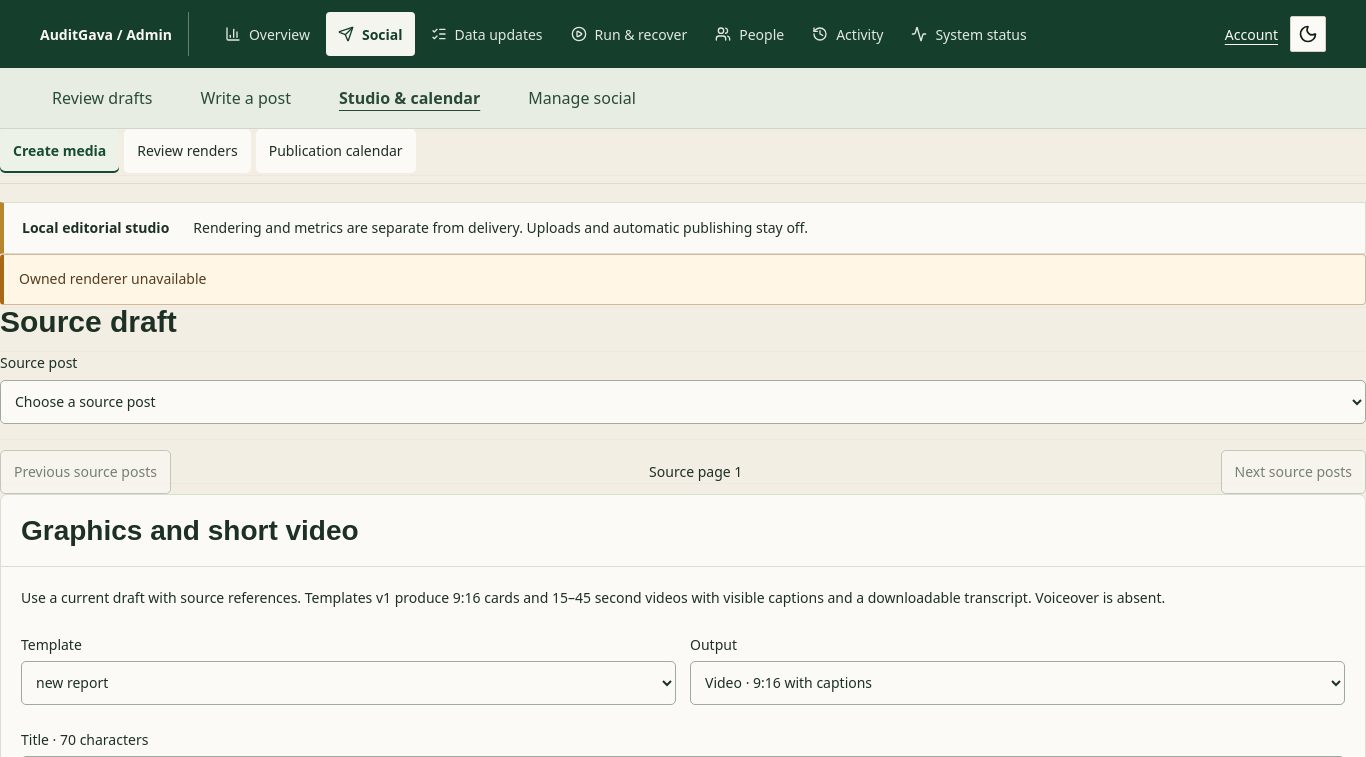
Test: unavailable Studio cannot queue media and calendar task performs reads only
Expected: the text "Owned renderer unavailable" is shown, [0,254,1365,305]
Click the button "Publication calendar": (336, 151) [256,129,416,173]
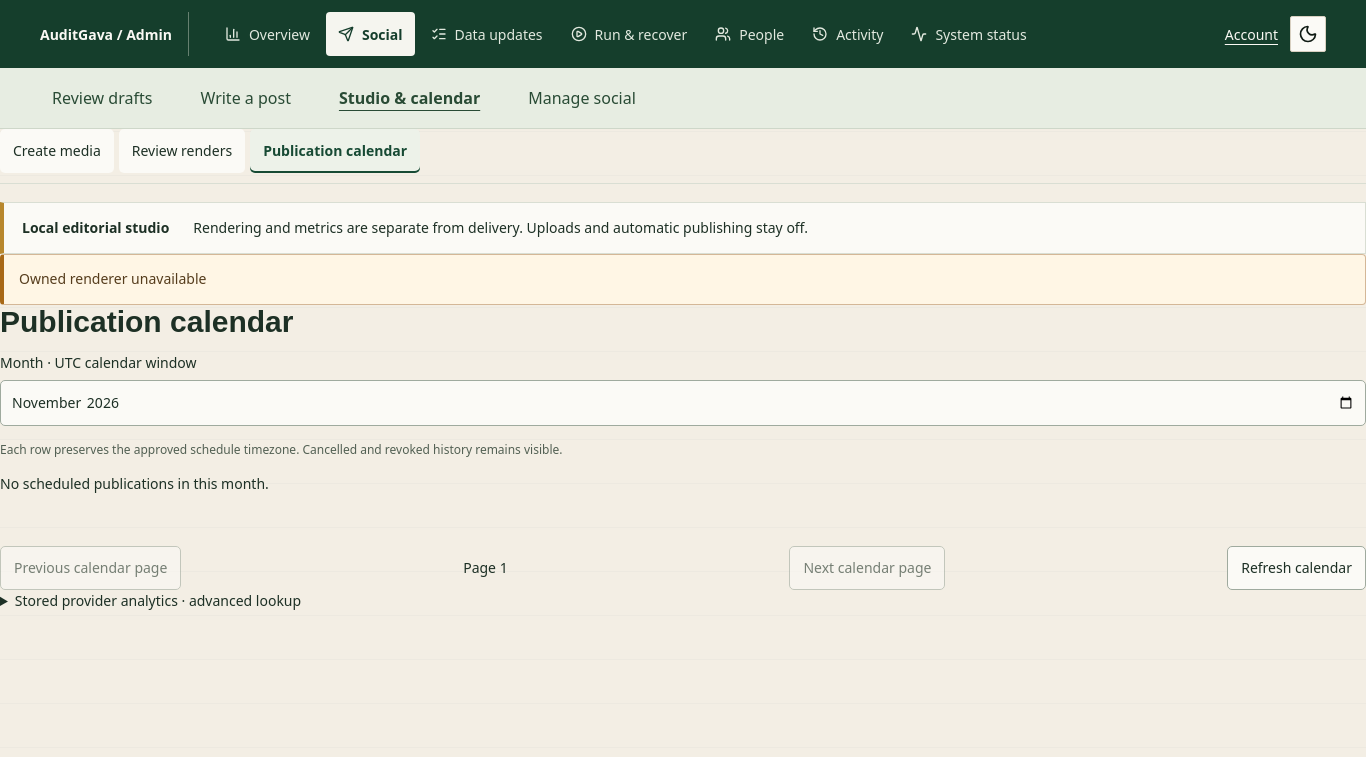
Expected: the text "No scheduled publications in this month." is shown, [0,474,269,493]
Expected: the label labelled "Source post" is gone
Expected: the heading "Graphics and short video" is gone
